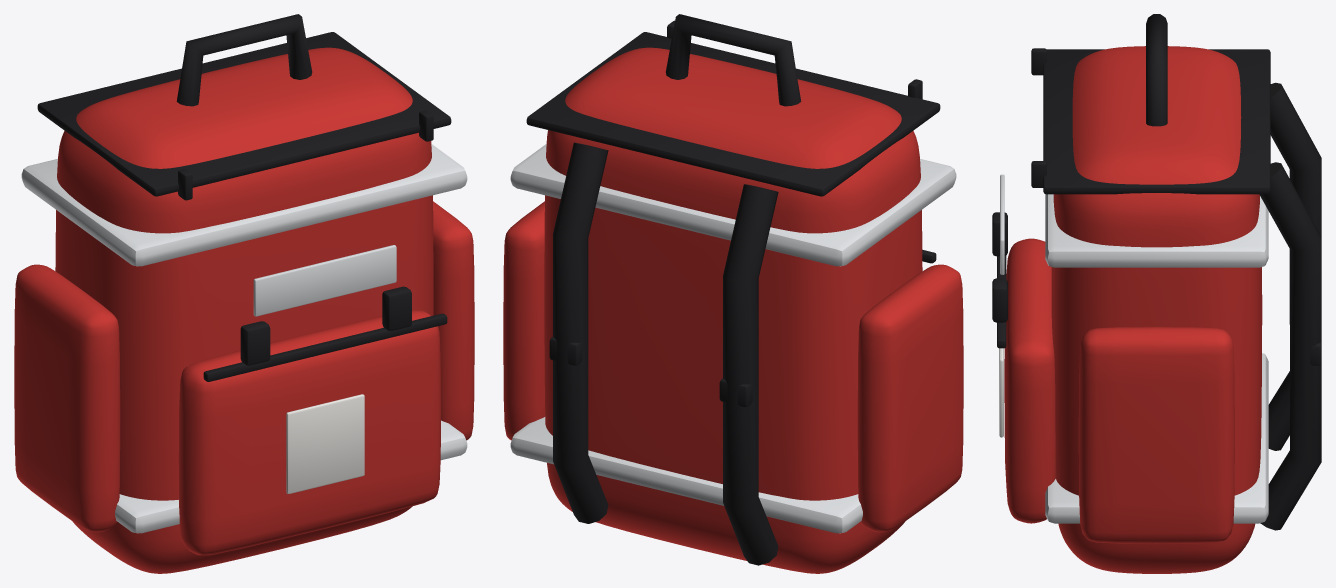
File: zaino-118 3.glb
3 views of the same model, side by side, from view 1: azimuth 30°, elevation 25°; view 2: azimuth 150°, elevation 25°; view 3: azimuth 270°, elevation 25° (orthographic). The views are drawn at different scales.
Parts seen in each view (by area): view 1: zaino-118; view 2: zaino-118; view 3: zaino-118.
Boxes of the visible parts, <box> form: zaino-118: <box>14,14,474,573</box>; zaino-118: <box>503,14,963,573</box>; zaino-118: <box>992,14,1321,573</box>.
Size of the model in its own units: 0.5594 by 0.6795 by 0.4204.
